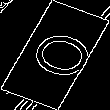O_SE: (14, 25, 96, 85)
